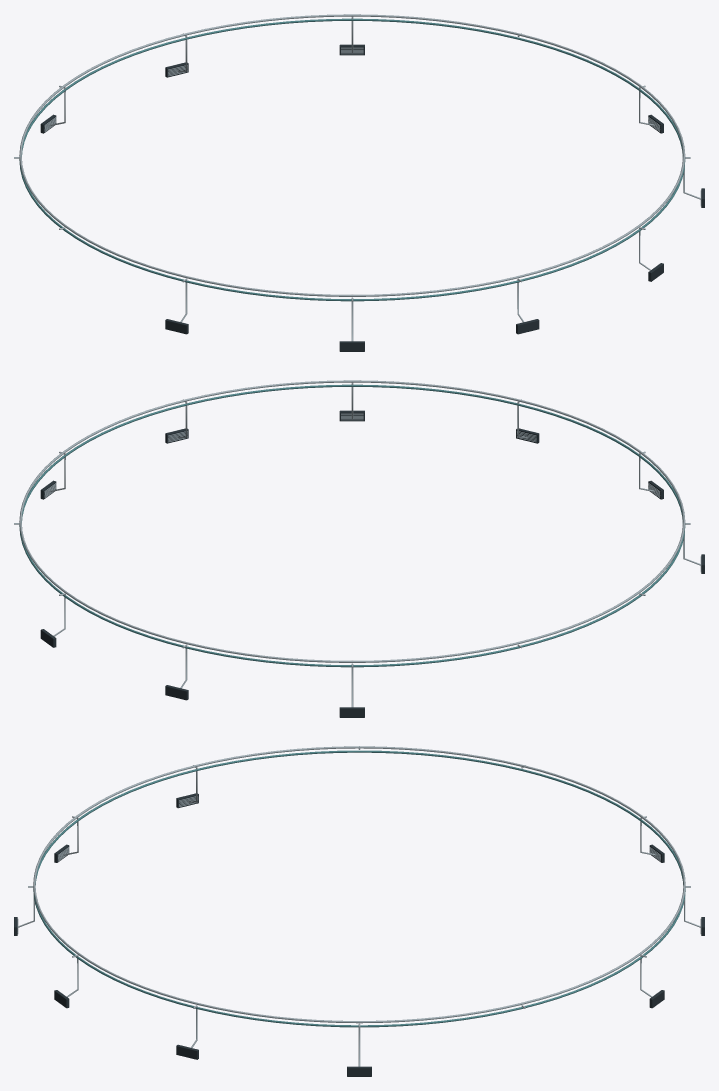
Rendered from RD_W01_Services.fbx.
3 renders of one model, top to bottom at view 1: azimuth 30°, elevation 25°; view 2: azimuth 150°, elevation 25°; view 3: azimuth 270°, elevation 25°, orthographic. The views are drawn at different scales.
Visible parts, largest first — view 1: RD_W01_Services; view 2: RD_W01_Services; view 3: RD_W01_Services.
Part boxes in pixels (bbox=[...]): RD_W01_Services: bbox=[14, 14, 704, 351]; RD_W01_Services: bbox=[14, 380, 704, 717]; RD_W01_Services: bbox=[14, 746, 704, 1076].
Bounding box in the file's own units: 1889 × 146 × 1928.
